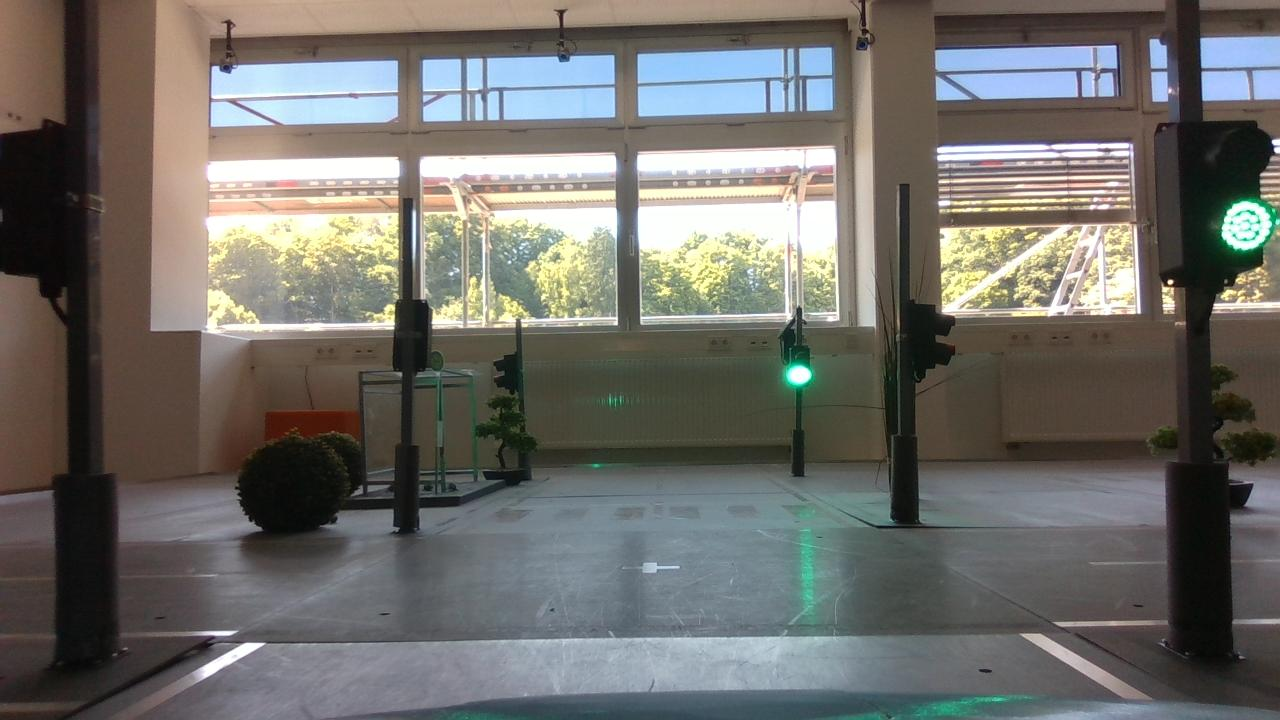traffic_light_green: (1139, 114, 1280, 296)
